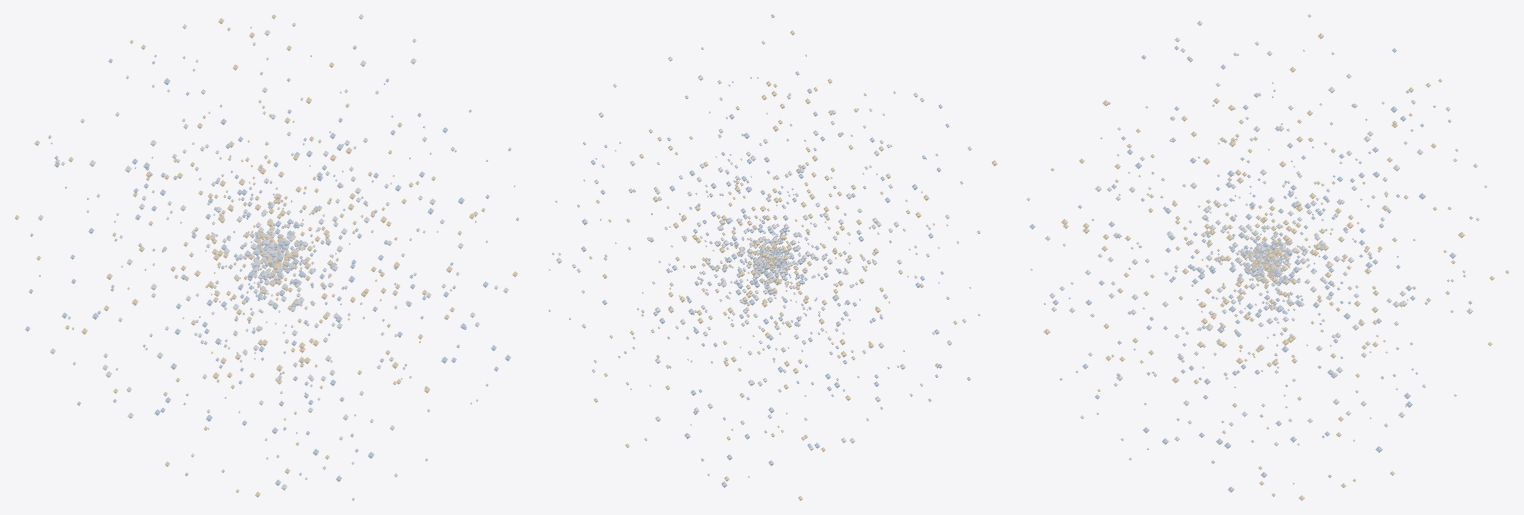
3 views of the same model, side by side, from view 1: azimuth 30°, elevation 25°; view 2: azimuth 150°, elevation 25°; view 3: azimuth 270°, elevation 25° (orthographic). The views are drawn at different scales.
Size of the model in its own units: 5.11 by 5.05 by 4.89.
